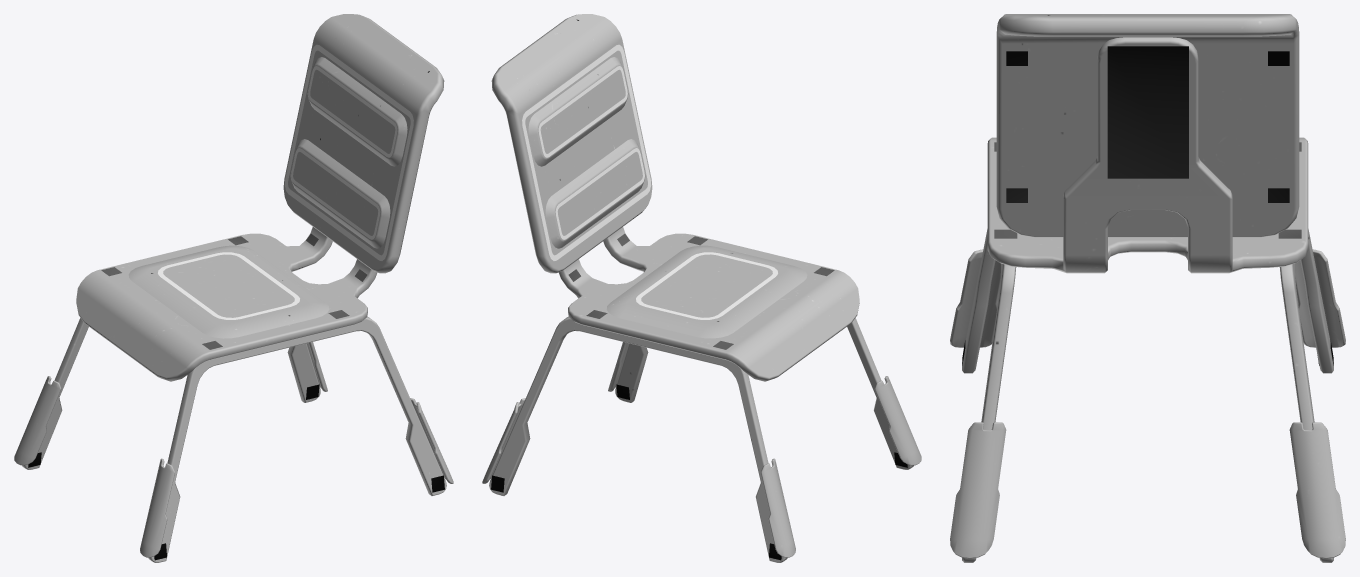
File: SM_Chair.fbx
3 renders of one model, left to right at view 1: azimuth 30°, elevation 25°; view 2: azimuth 150°, elevation 25°; view 3: azimuth 270°, elevation 25°, orthographic. The views are drawn at different scales.
Parts seen in each view (by area): view 1: SM_Chair_LOD0; view 2: SM_Chair_LOD0; view 3: SM_Chair_LOD0.
Boxes of the visible parts, x1=… form: SM_Chair_LOD0: x1=14, y1=14, x2=453, y2=562; SM_Chair_LOD0: x1=482, y1=14, x2=921, y2=562; SM_Chair_LOD0: x1=950, y1=14, x2=1345, y2=562.
Size of the model in its own units: 74.57 by 55.61 by 87.18.
